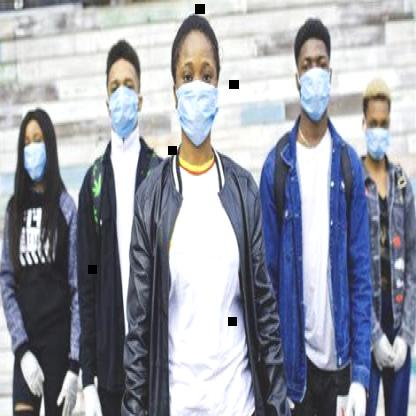mask: (174, 27, 219, 146), (296, 26, 332, 120), (106, 51, 142, 136), (362, 78, 391, 160), (22, 116, 51, 182)
